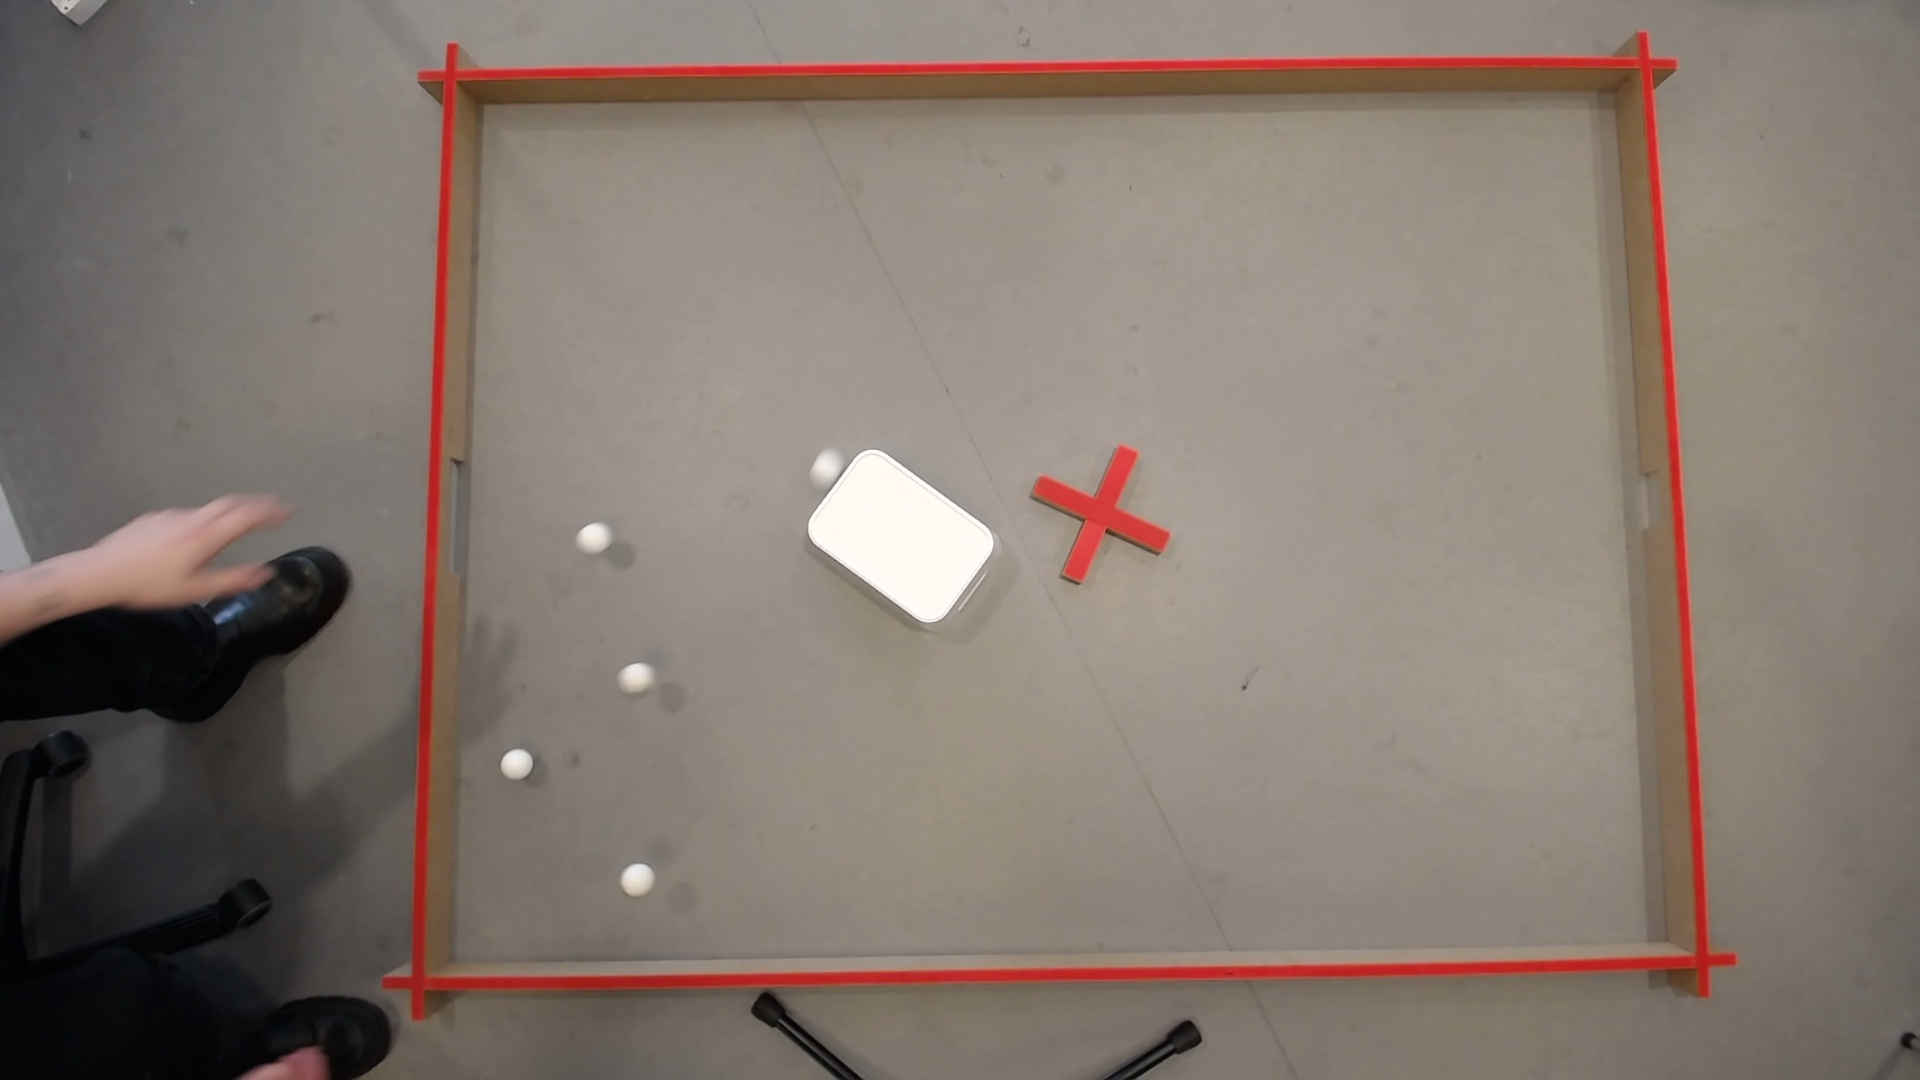balls: (796, 438, 1002, 632), (96, 521, 171, 566), (497, 742, 534, 779), (617, 857, 654, 894), (575, 518, 611, 553), (618, 658, 651, 688)
car: (810, 450, 840, 479)
